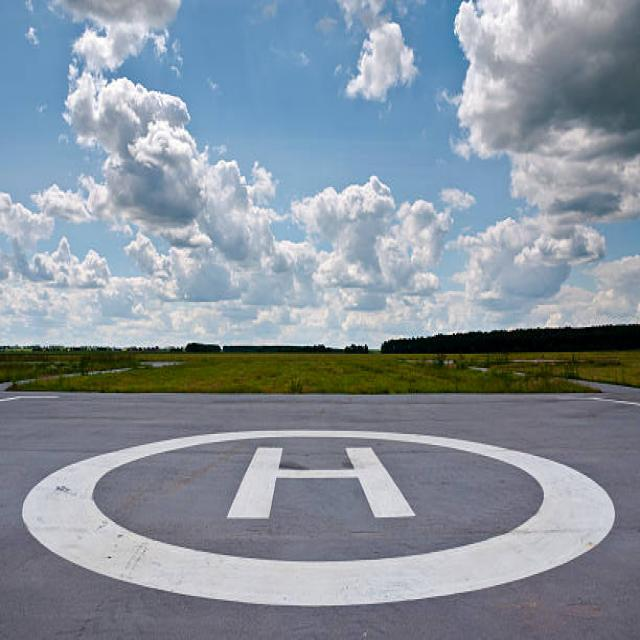helipad: (16, 420, 620, 610)
